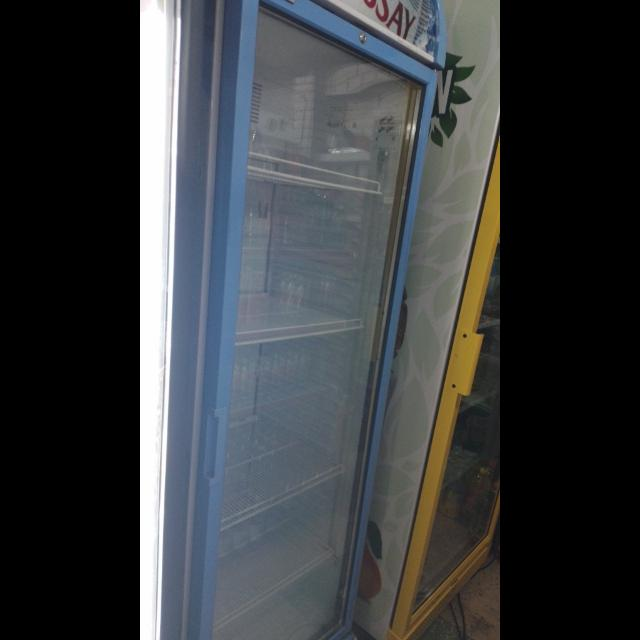Cooling-Display: (188, 1, 448, 640)
